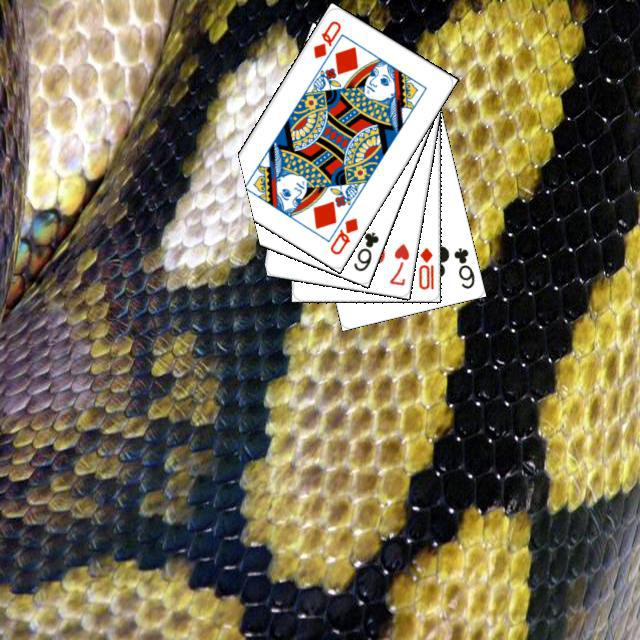10d: (414, 243, 435, 291)
6c: (349, 227, 380, 273), (449, 243, 476, 290)
7h: (384, 239, 411, 287)
Qd: (308, 16, 343, 60), (325, 213, 360, 256)
